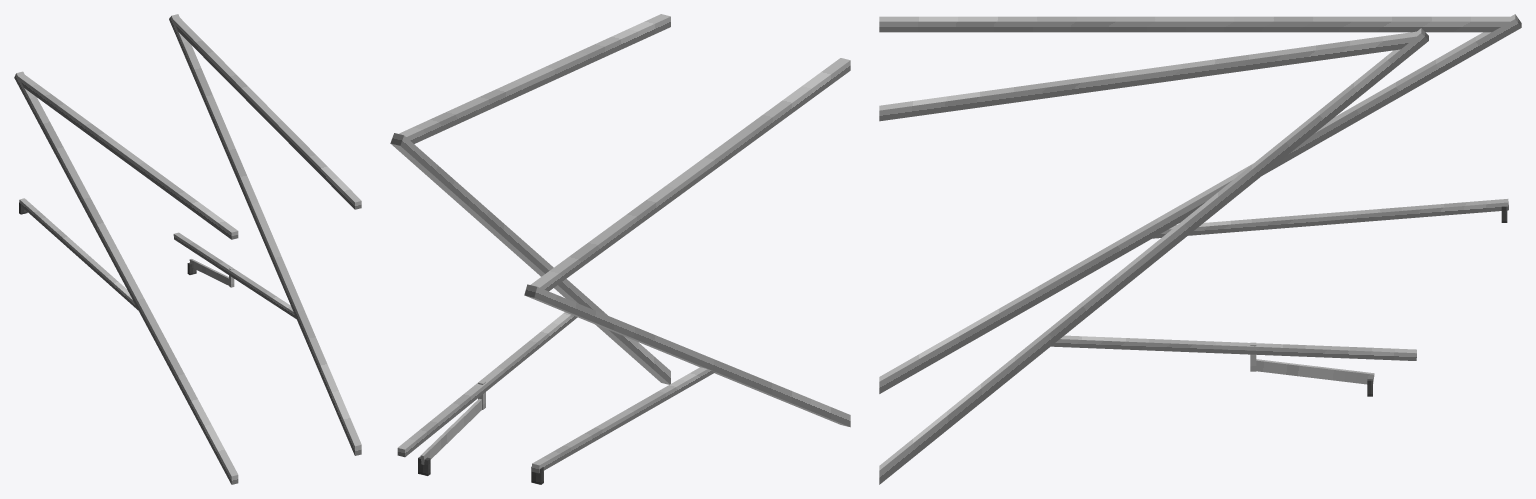
File: cantilever_inner_4px.obj
3 views of the same model, side by side, from view 1: azimuth 30°, elevation 25°; view 2: azimuth 150°, elevation 25°; view 3: azimuth 270°, elevation 25° (orthographic). The views are drawn at different scales.
Visible parts, largest first — view 1: 899456da-54d5-4920-9529-93b5e709b9e5, bb9c3921-1412-4bab-9278-1c291a0bb27c, 9dd072f9-7478-4a37-81e3-77e85a76f883, b86c7e8f-8781-48b2-8ba4-ef3f3c7ed193, 0e859318-c4e2-4bd8-9647-be3aeb3063dd, 638f876f-e65c-4b03-a576-3c0f5fa31bef; view 2: 9dd072f9-7478-4a37-81e3-77e85a76f883, 899456da-54d5-4920-9529-93b5e709b9e5, b86c7e8f-8781-48b2-8ba4-ef3f3c7ed193, bb9c3921-1412-4bab-9278-1c291a0bb27c, 638f876f-e65c-4b03-a576-3c0f5fa31bef, 0e859318-c4e2-4bd8-9647-be3aeb3063dd, 02d888f3-2e3f-4e23-a4dd-8586cb8d1336; view 3: 899456da-54d5-4920-9529-93b5e709b9e5, 9dd072f9-7478-4a37-81e3-77e85a76f883, bb9c3921-1412-4bab-9278-1c291a0bb27c, b86c7e8f-8781-48b2-8ba4-ef3f3c7ed193, 638f876f-e65c-4b03-a576-3c0f5fa31bef, 0e859318-c4e2-4bd8-9647-be3aeb3063dd, 02d888f3-2e3f-4e23-a4dd-8586cb8d1336.
Boxes of the visible parts, x1,y1,x2,y2 form: 899456da-54d5-4920-9529-93b5e709b9e5: (169, 14, 361, 455); bb9c3921-1412-4bab-9278-1c291a0bb27c: (14, 71, 238, 484); 9dd072f9-7478-4a37-81e3-77e85a76f883: (18, 74, 238, 239); b86c7e8f-8781-48b2-8ba4-ef3f3c7ed193: (173, 17, 361, 209); 0e859318-c4e2-4bd8-9647-be3aeb3063dd: (19, 198, 137, 309); 638f876f-e65c-4b03-a576-3c0f5fa31bef: (173, 232, 296, 318); 9dd072f9-7478-4a37-81e3-77e85a76f883: (530, 58, 850, 291); 899456da-54d5-4920-9529-93b5e709b9e5: (390, 133, 670, 384); b86c7e8f-8781-48b2-8ba4-ef3f3c7ed193: (398, 14, 670, 143); bb9c3921-1412-4bab-9278-1c291a0bb27c: (524, 284, 850, 427); 638f876f-e65c-4b03-a576-3c0f5fa31bef: (397, 312, 577, 457); 0e859318-c4e2-4bd8-9647-be3aeb3063dd: (531, 367, 715, 473); 02d888f3-2e3f-4e23-a4dd-8586cb8d1336: (420, 399, 481, 464); 899456da-54d5-4920-9529-93b5e709b9e5: (879, 28, 1428, 484); 9dd072f9-7478-4a37-81e3-77e85a76f883: (879, 16, 1510, 32); bb9c3921-1412-4bab-9278-1c291a0bb27c: (879, 14, 1521, 393); b86c7e8f-8781-48b2-8ba4-ef3f3c7ed193: (879, 31, 1416, 121); 638f876f-e65c-4b03-a576-3c0f5fa31bef: (1051, 335, 1416, 360); 0e859318-c4e2-4bd8-9647-be3aeb3063dd: (1153, 199, 1508, 238); 02d888f3-2e3f-4e23-a4dd-8586cb8d1336: (1256, 359, 1374, 384).
Size of the model in its own units: 1.19 by 2.67 by 3.43.
